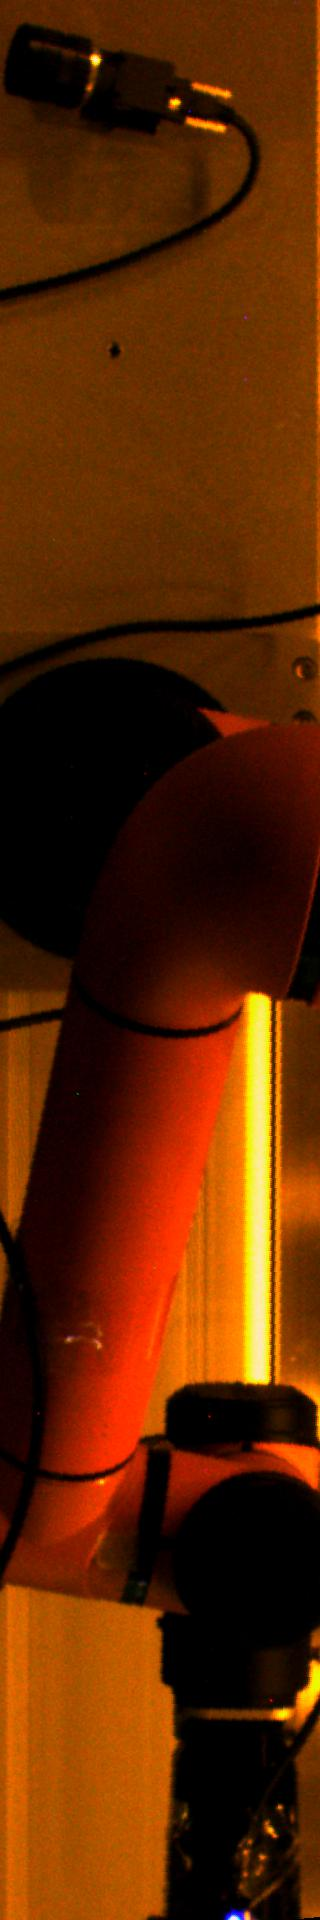keyPoint_2: (99, 337, 129, 367)
